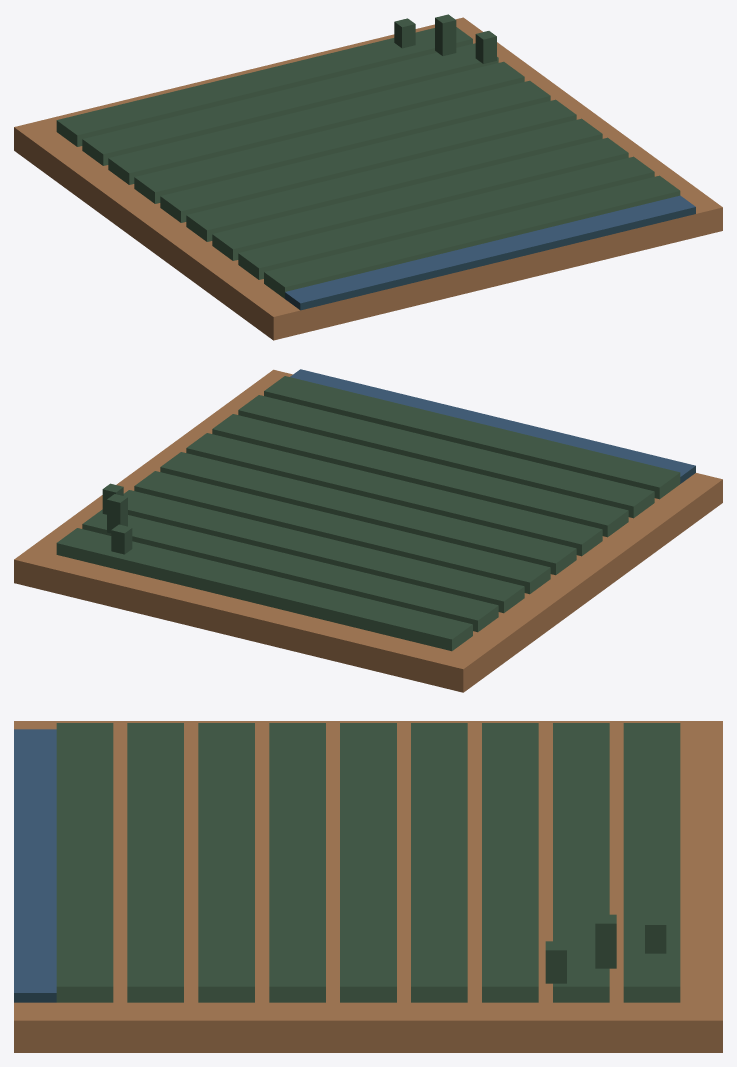
File: terr_spiritfield.glb
3 views of the same model, one above another, from view 1: azimuth 30°, elevation 25°; view 2: azimuth 150°, elevation 25°; view 3: azimuth 270°, elevation 25° (orthographic). The views are drawn at different scales.
Parts seen in each view (by area): view 1: terr_spiritfield; view 2: terr_spiritfield; view 3: terr_spiritfield.
Part boxes in pixels (x1,y1,x2,y2): terr_spiritfield: (14, 14, 722, 340); terr_spiritfield: (14, 369, 722, 692); terr_spiritfield: (14, 721, 722, 1052).
Size of the model in its own units: 1 by 0.145 by 1.
1 material, 1 textured.
